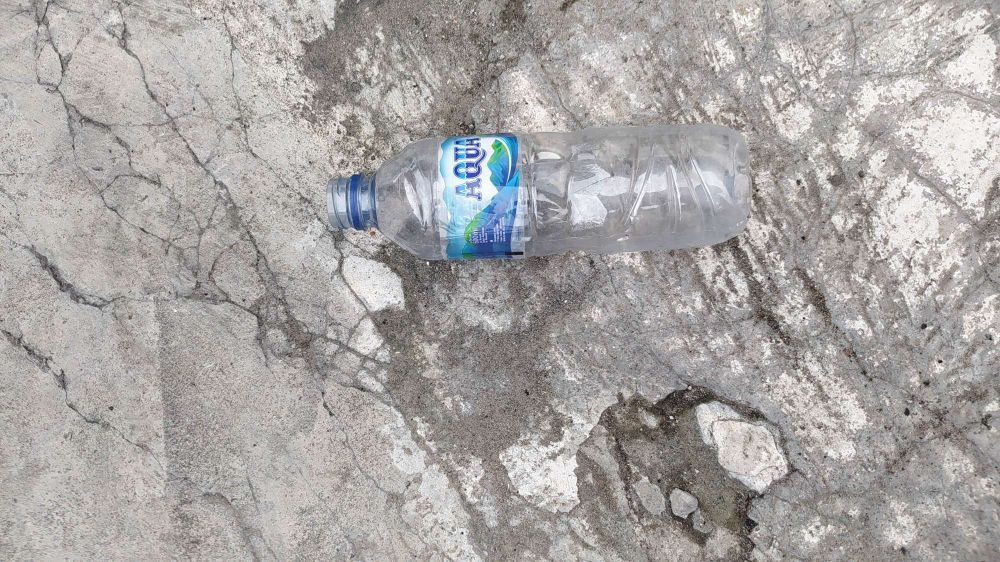botol: (285, 108, 783, 271)
